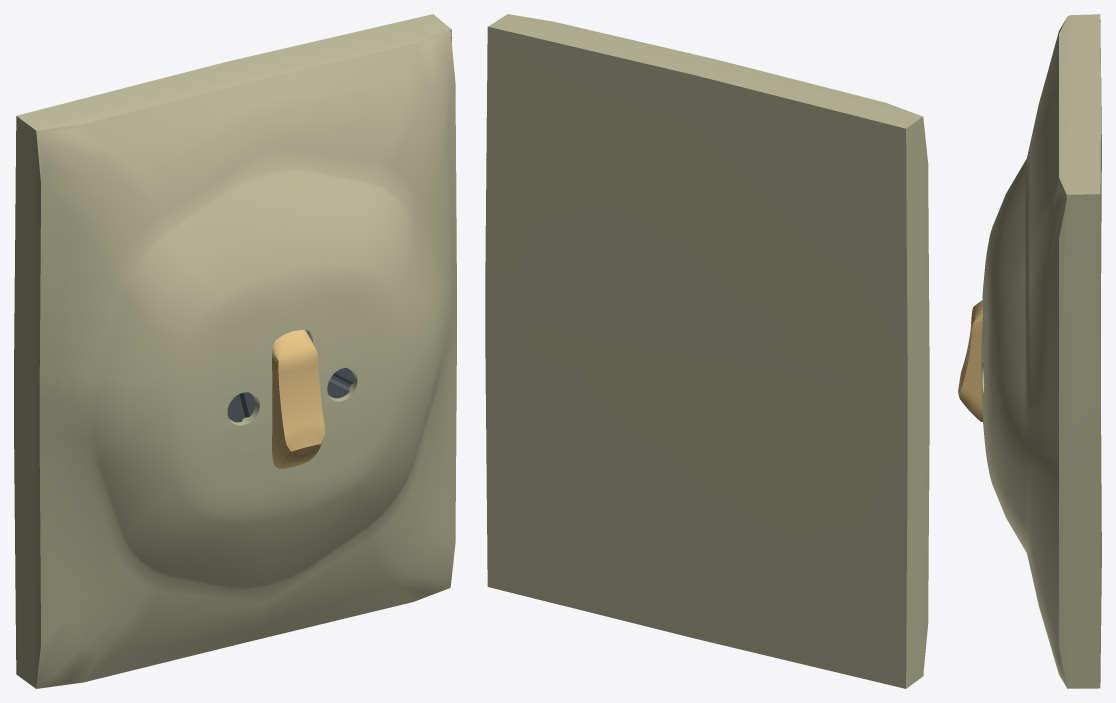
The model's file is Lightswitch_v2.fbx.
3 renders of one model, left to right at view 1: azimuth 30°, elevation 25°; view 2: azimuth 150°, elevation 25°; view 3: azimuth 270°, elevation 25°, orthographic. The views are drawn at different scales.
Visible parts, largest first — view 1: Lightswitch; view 2: Lightswitch; view 3: Lightswitch.
Part boxes in pixels (x1,y1,x2,y2): Lightswitch: (14,14,456,688); Lightswitch: (485,14,929,688); Lightswitch: (958,14,1101,688).
Bounding box in the file's own units: 0.0787 × 0.1005 × 0.0263.
